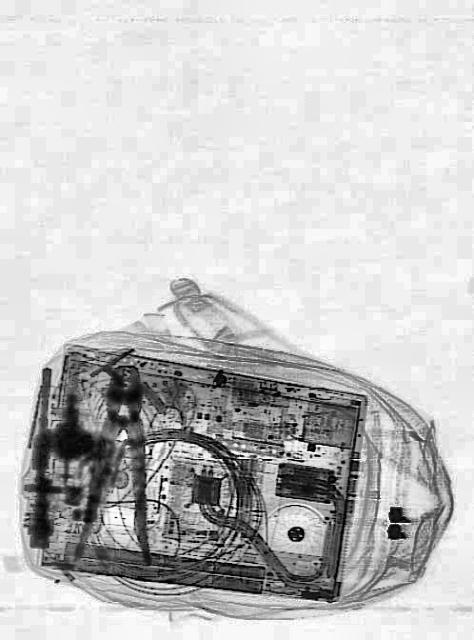Pliers: (68, 358, 166, 568)
